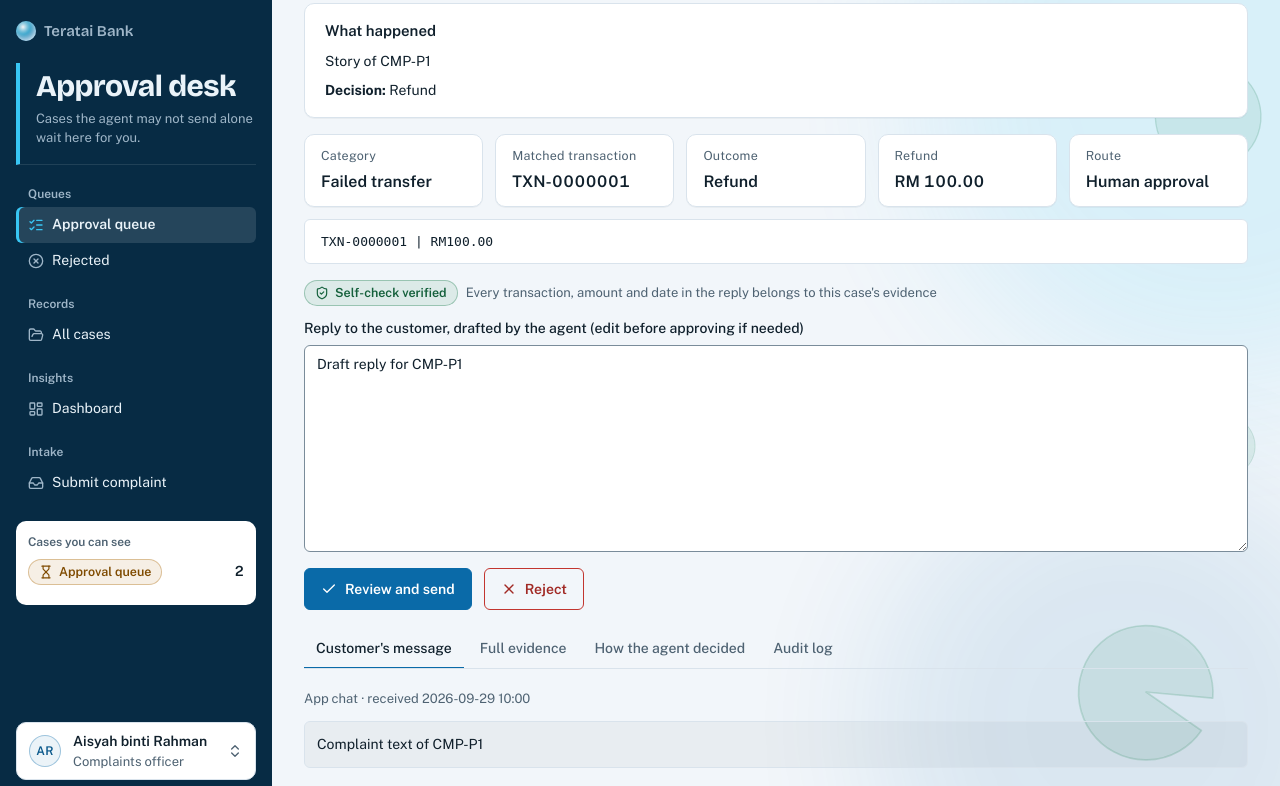
Test: approval queue › approves only after a review that names the refund
The width and height of the screenshot is (1280, 786).
(page scrolled)
Click the button "Review and send" at (388, 589), box [304,568,472,610]
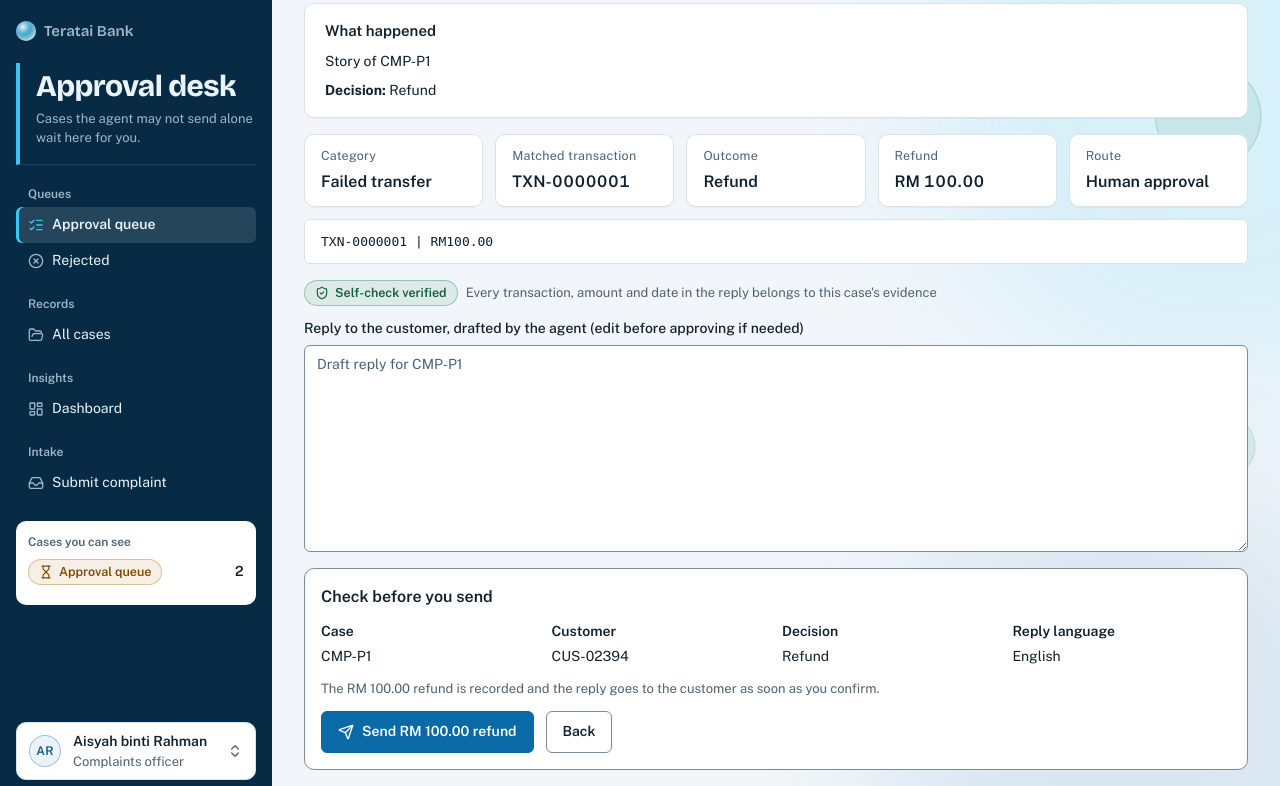
Result: the element "Check before you send" shows "CUS-02394" at [552,648,629,664]
Click the button "Send RM 100.00 refund" at (427, 732), box [321,710,534,752]
(page scrolled)
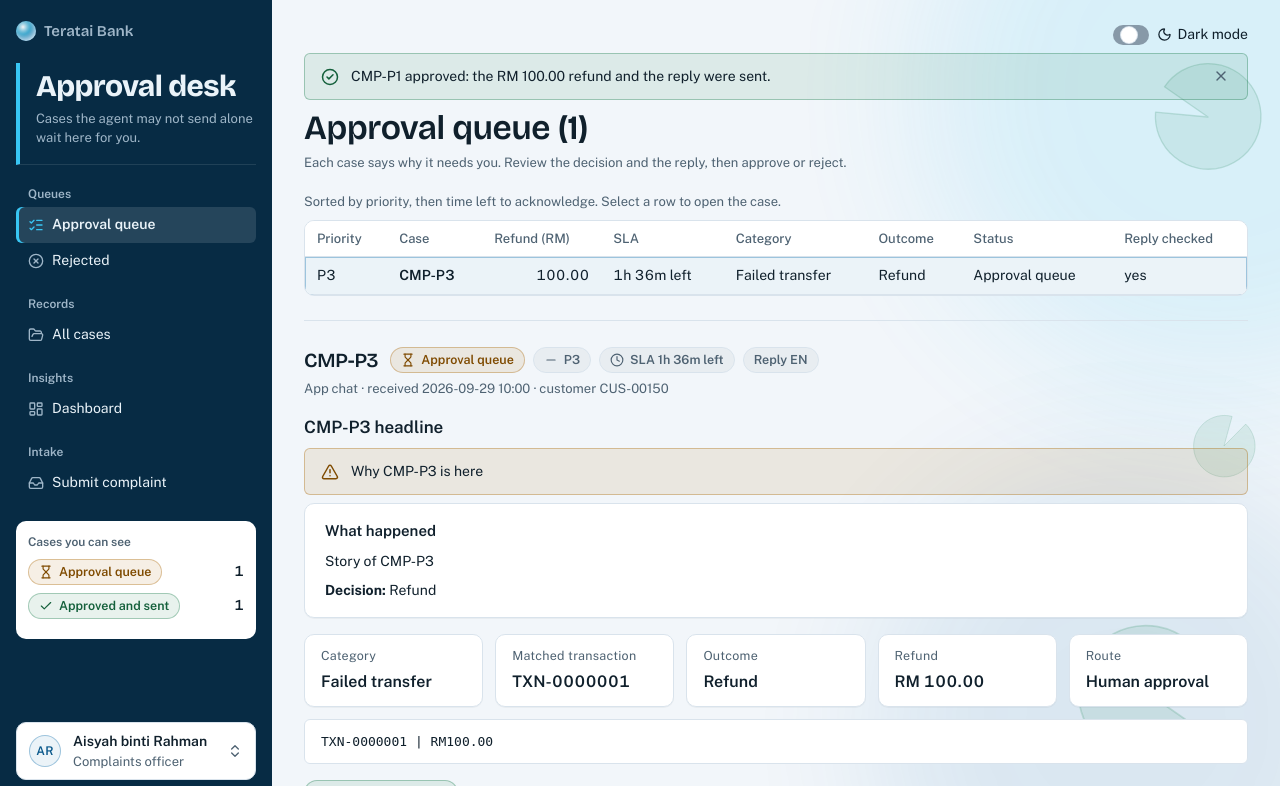
Result: the text "CMP-P1 approved: the RM 100.00 refund and the reply were sent." is shown at [351,68,770,84]
